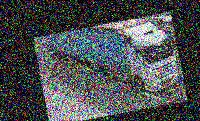truck: (43, 12, 183, 112)
